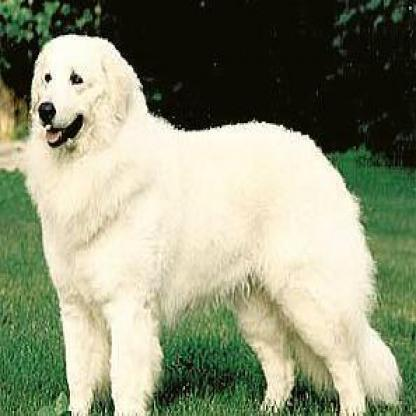kuvasz: (18, 30, 398, 413)
